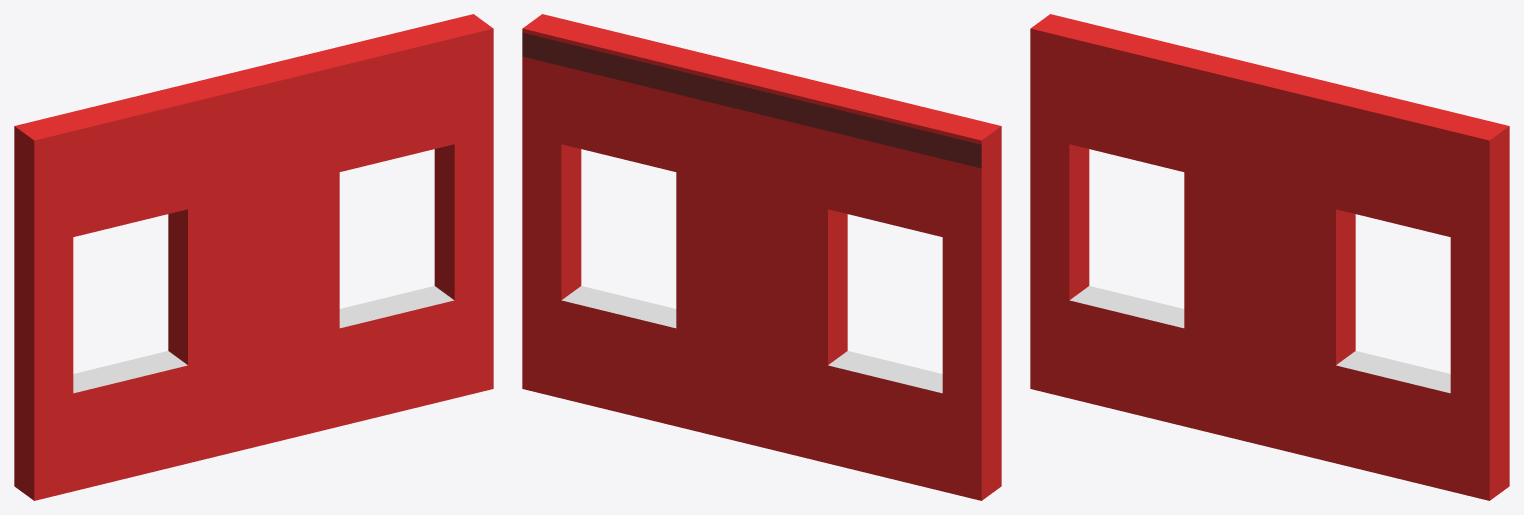
The model's file is b1.wall-window.fbx.
3 views of the same model, side by side, from view 1: azimuth 30°, elevation 25°; view 2: azimuth 150°, elevation 25°; view 3: azimuth 330°, elevation 25° (orthographic).
Parts seen in each view (by area): view 1: b1 wall window; view 2: b1 wall window; view 3: b1 wall window.
Part boxes in pixels (left/top/right/bottom): b1 wall window: left=14, top=14, right=493, bottom=500; b1 wall window: left=522, top=14, right=1001, bottom=500; b1 wall window: left=1030, top=14, right=1509, bottom=500.
Size of the model in its own units: 4 by 3 by 0.3.
